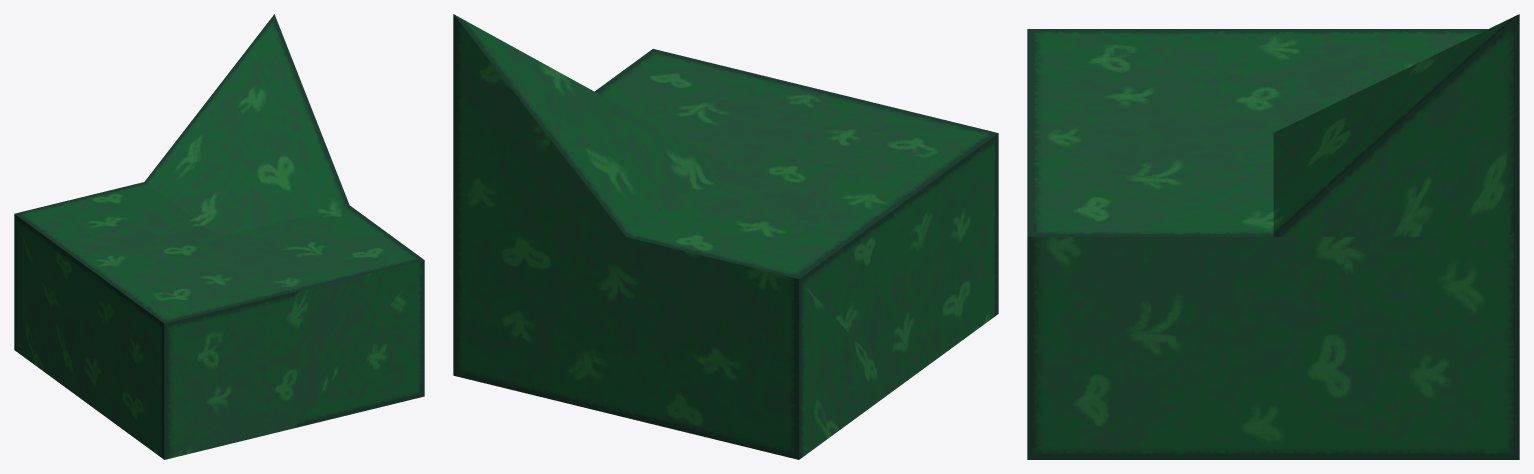
The model's file is 12_grass.obj.
The picture shows the model from 3 angles, left to right: view 1: azimuth 30°, elevation 25°; view 2: azimuth 150°, elevation 25°; view 3: azimuth 270°, elevation 25°; orthographic projection. The views are drawn at different scales.
Parts seen in each view (by area): view 1: 12_grass; view 2: 12_grass; view 3: 12_grass.
Boxes of the visible parts, <box> form: 12_grass: <box>14,14,424,459</box>; 12_grass: <box>453,14,998,459</box>; 12_grass: <box>1027,14,1519,459</box>.
Bounding box in the file's own units: 1 × 1 × 1.
Materials: 1 (1 with a texture image).
